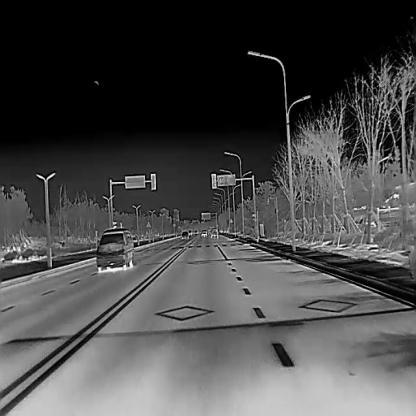car: (96, 227, 133, 271), (209, 227, 218, 237), (181, 230, 189, 239), (201, 229, 208, 238), (188, 228, 193, 236), (194, 229, 197, 234)
